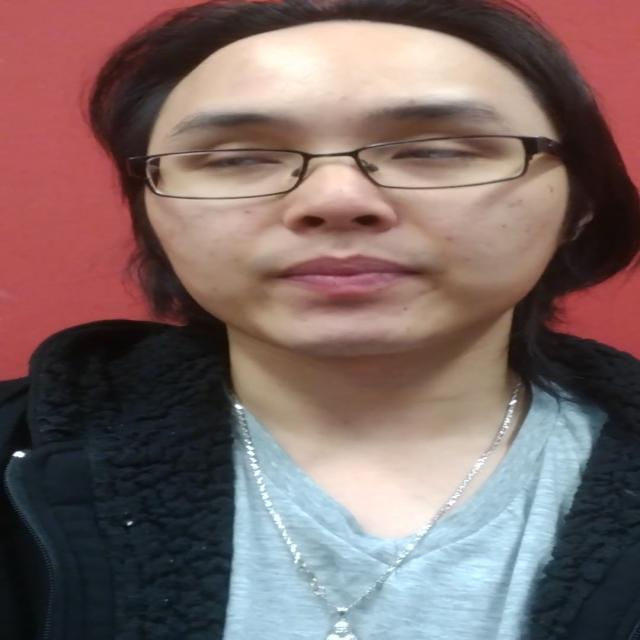Eyeclosed: (378, 132, 481, 172), (196, 145, 283, 177)
